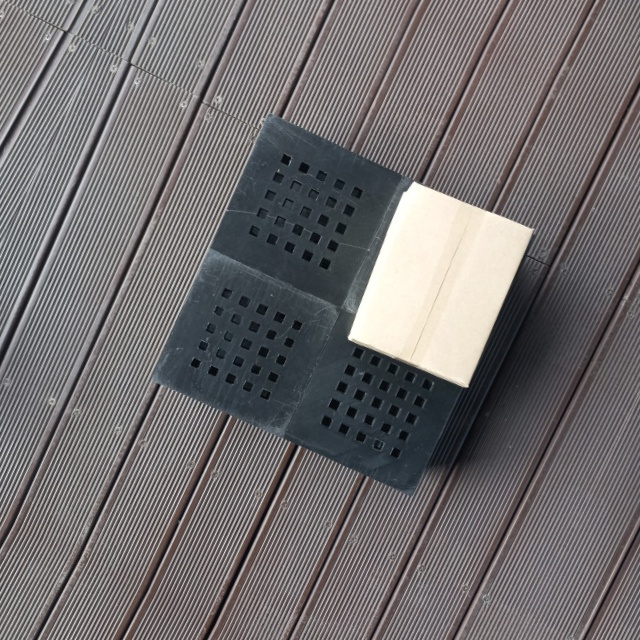box: (346, 177, 535, 391)
pallet: (142, 106, 537, 498)
